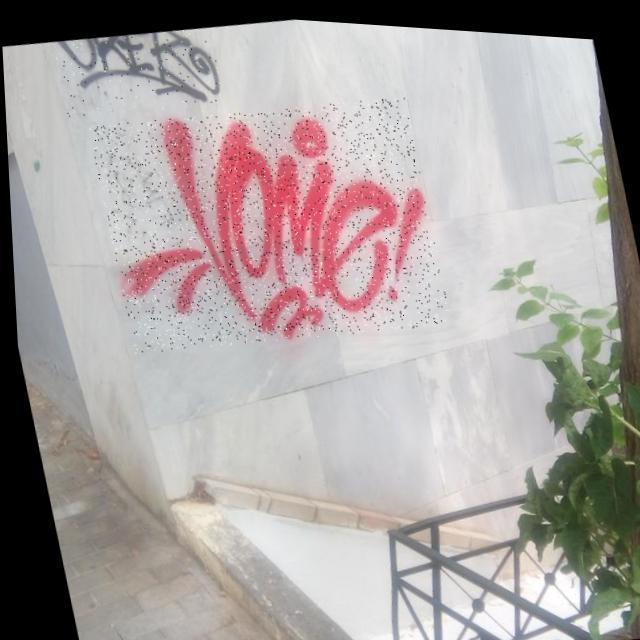-: (85, 74, 451, 369), (51, 16, 225, 124)
